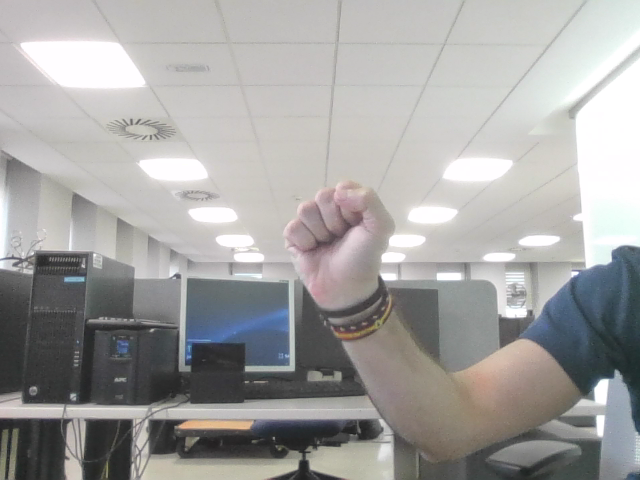Puño: (297, 190, 377, 263)
